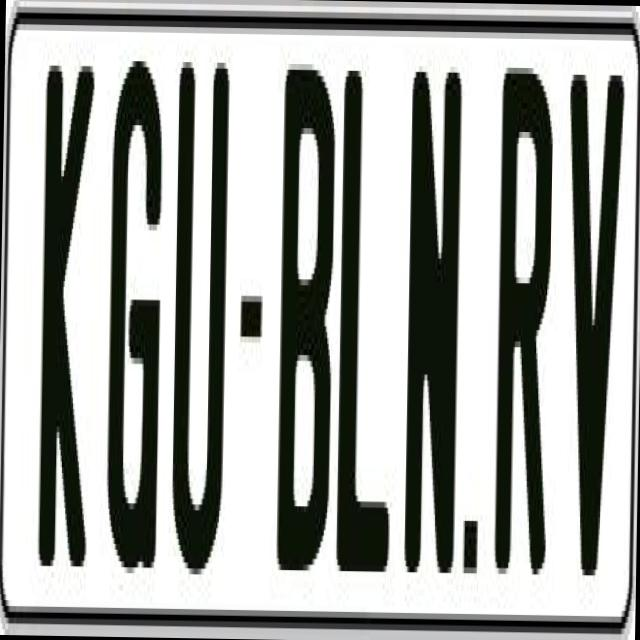B: (274, 63, 340, 582)
G: (105, 55, 167, 579)
K: (35, 48, 94, 572)
L: (336, 59, 402, 560)
N: (400, 66, 460, 602)
R: (495, 67, 555, 603)
U: (170, 62, 238, 580)
V: (558, 62, 618, 570)
